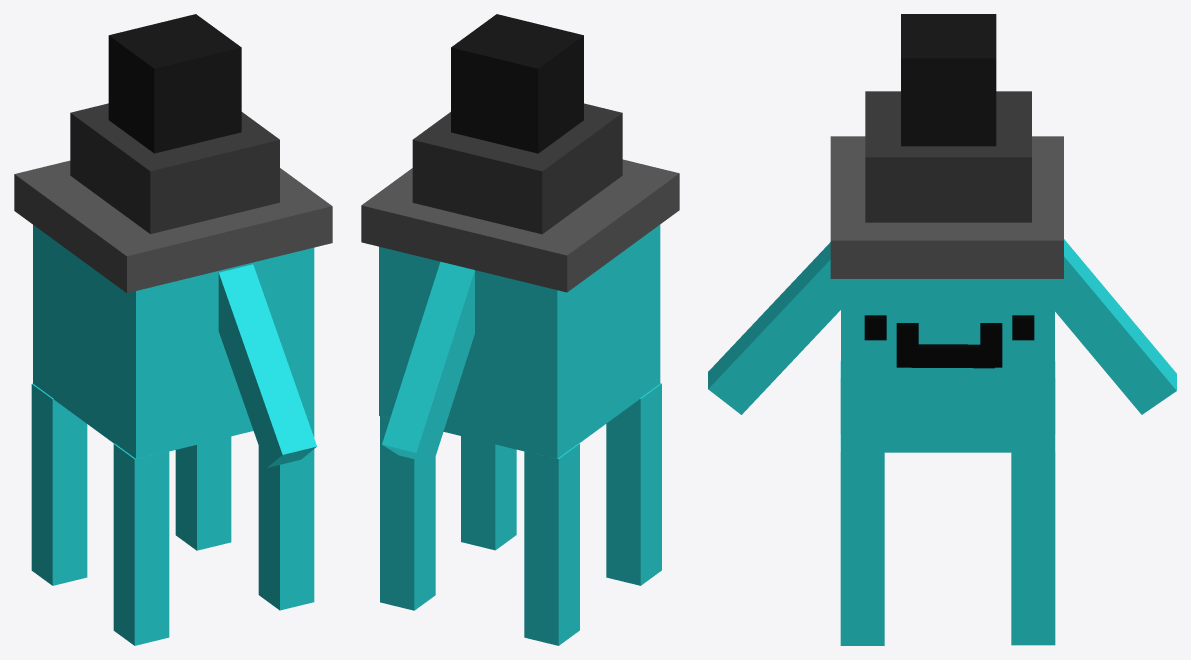
The model's file is The Guy.dae.
3 renders of one model, left to right at view 1: azimuth 30°, elevation 25°; view 2: azimuth 150°, elevation 25°; view 3: azimuth 270°, elevation 25°, orthographic. The views are drawn at different scales.
Visible parts, largest first — view 1: Cube.001, Cube.008, Cube.009, Cube.010, Cube.002, Cube.007, Cube.004, Cube.003, Cube.005; view 2: Cube.001, Cube.008, Cube.009, Cube.010, Cube.004, Cube.006, Cube.002, Cube.005, Cube.003; view 3: Cube.001, Cube.008, Cube.009, Cube.010, Cube.007, Cube.003, Cube.005, Cube.006, Cube.015, Cube.013, Cube.014.
Part boxes in pixels (x1=…): Cube.001: x1=33, y1=225, x2=314, y2=458; Cube.008: x1=14, y1=160, x2=332, y2=292; Cube.009: x1=70, y1=103, x2=279, y2=233; Cube.010: x1=108, y1=14, x2=241, y2=153; Cube.002: x1=113, y1=443, x2=169, y2=645; Cube.007: x1=218, y1=264, x2=316, y2=467; Cube.004: x1=31, y1=383, x2=87, y2=585; Cube.003: x1=258, y1=415, x2=314, y2=610; Cube.005: x1=175, y1=436, x2=231, y2=550; Cube.001: x1=379, y1=225, x2=660, y2=458; Cube.008: x1=361, y1=159, x2=679, y2=292; Cube.009: x1=412, y1=103, x2=622, y2=234; Cube.010: x1=451, y1=14, x2=583, y2=153; Cube.004: x1=524, y1=443, x2=579, y2=645; Cube.006: x1=382, y1=261, x2=474, y2=463; Cube.002: x1=606, y1=383, x2=661, y2=585; Cube.005: x1=380, y1=415, x2=435, y2=610; Cube.003: x1=461, y1=436, x2=516, y2=550; Cube.001: x1=841, y1=279, x2=1054, y2=452; Cube.008: x1=830, y1=136, x2=1063, y2=278; Cube.009: x1=865, y1=91, x2=1031, y2=222; Cube.010: x1=901, y1=14, x2=996, y2=146; Cube.007: x1=708, y1=242, x2=840, y2=414; Cube.003: x1=840, y1=434, x2=884, y2=645; Cube.005: x1=1011, y1=434, x2=1055, y2=645; Cube.006: x1=1055, y1=239, x2=1176, y2=414; Cube.015: x1=910, y1=344, x2=995, y2=368; Cube.013: x1=896, y1=323, x2=918, y2=367; Cube.014: x1=980, y1=323, x2=1002, y2=367.
Bounding box in the file's own units: 2.31 × 4.38 × 5.83.
